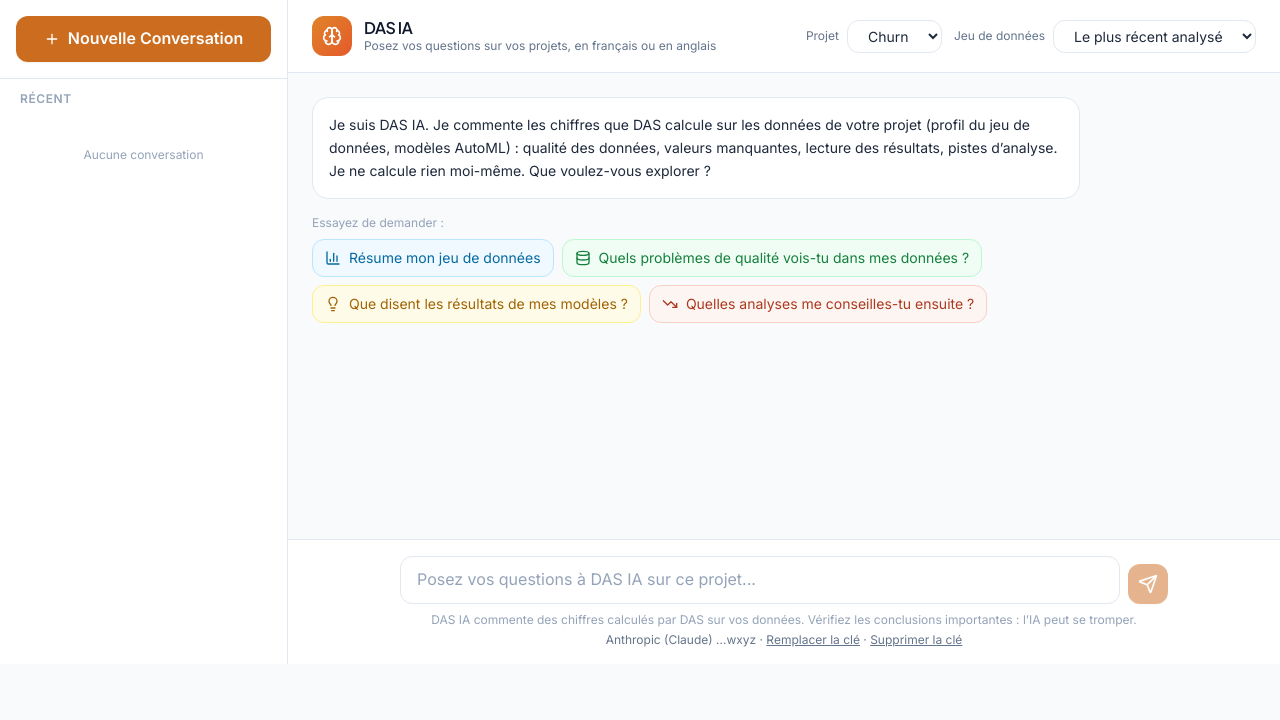
AssistantPage › avec une clé : envoie le message au serveur et affiche la réponse et le quota
Expected: the dropdown labelled "Projet" shows "Churn", top-left (847, 20), bottom-right (942, 52)
Step 1. Type "Résume mes données" into the text box with placeholder "Posez vos questions à DAS IA sur ce projet..." → (760, 580), box top-left (400, 556), bottom-right (1120, 604)
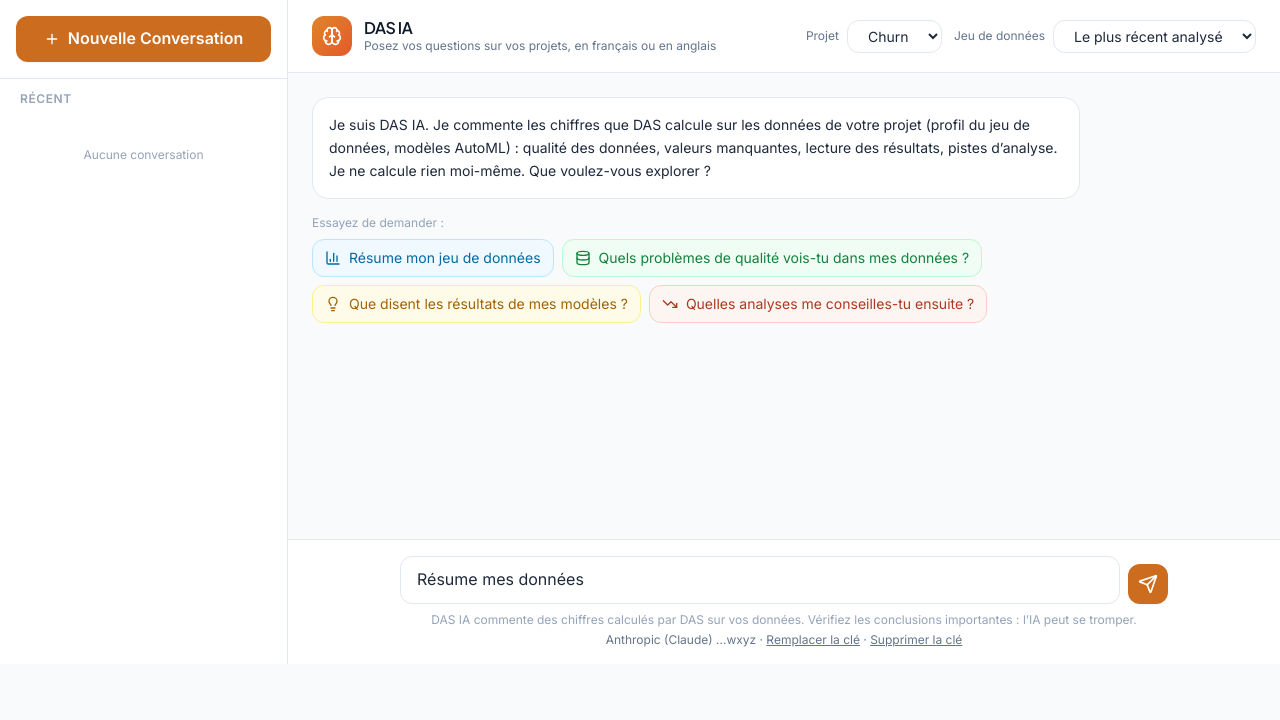
Step 2. Click the button named "Envoyer" → (1148, 584), box top-left (1128, 564), bottom-right (1168, 604)
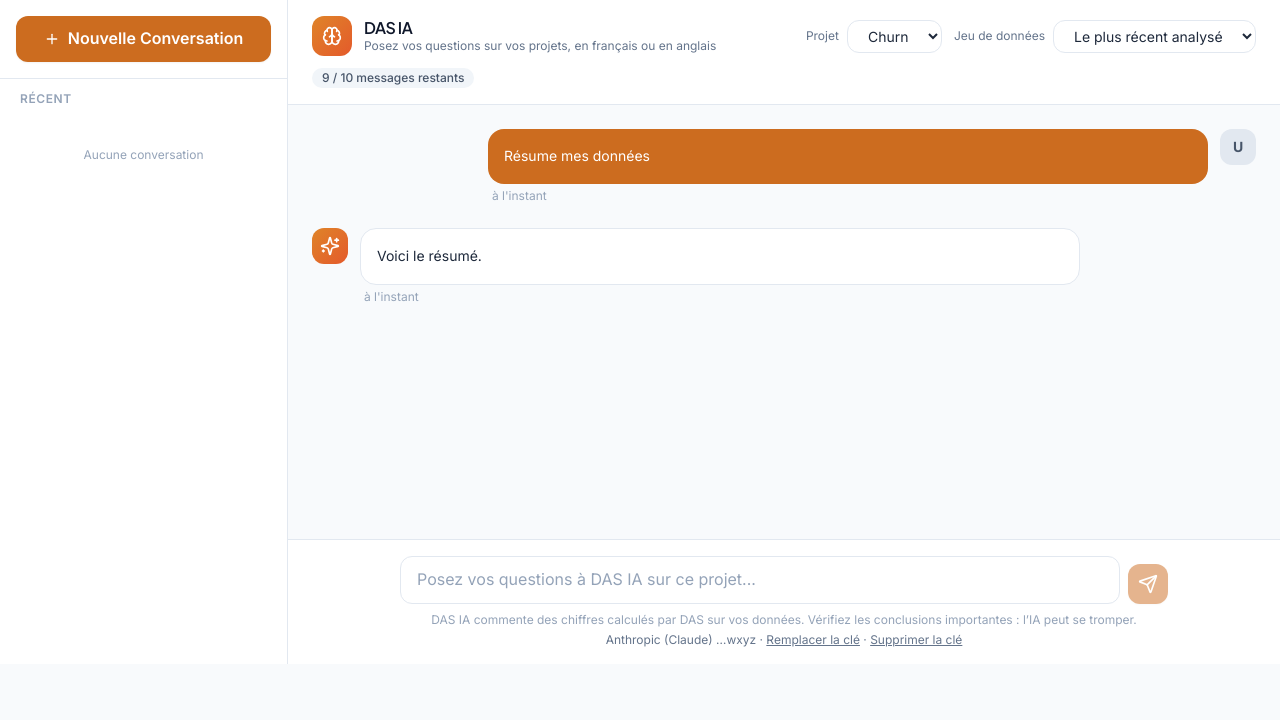
Expected: the text "Voici le résumé." is shown, top-left (377, 247), bottom-right (482, 264)
Expected: the text "9 / 10 messages restants" is shown, top-left (312, 68), bottom-right (474, 88)
